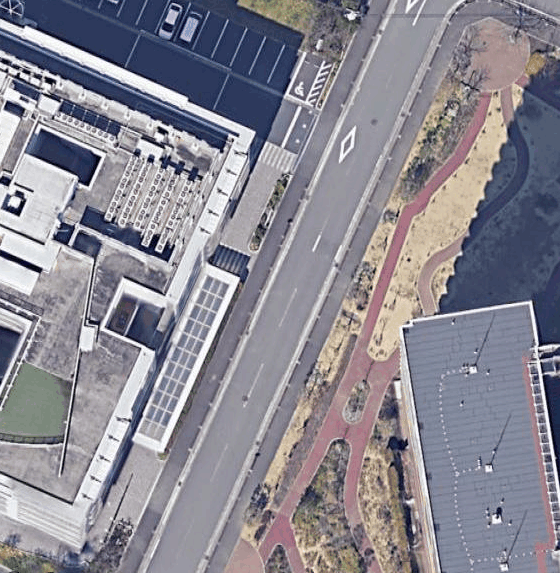facility: (0, 30, 245, 524)
flatroof: (391, 296, 558, 571)
